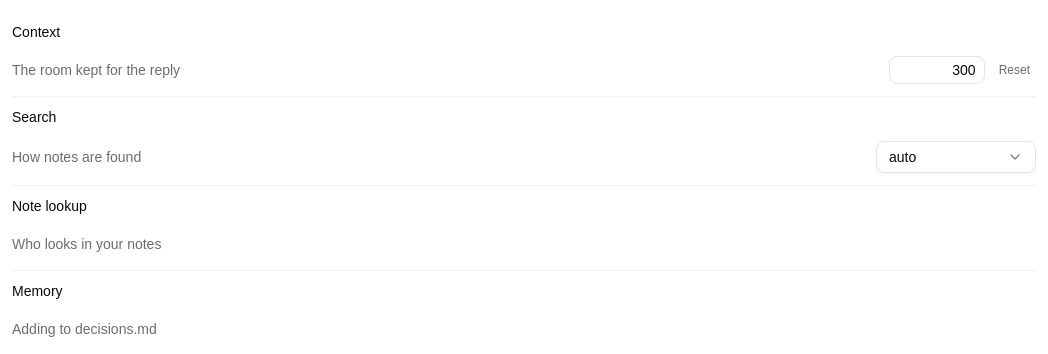
Test case: EngineSettingsSections › offers Reset only while a number is not at its default, and resets with null
The width and height of the screenshot is (1048, 354).
Click the button with aria-label "Reset The room kept for the reply": click(1014, 70) [993,60,1036,80]
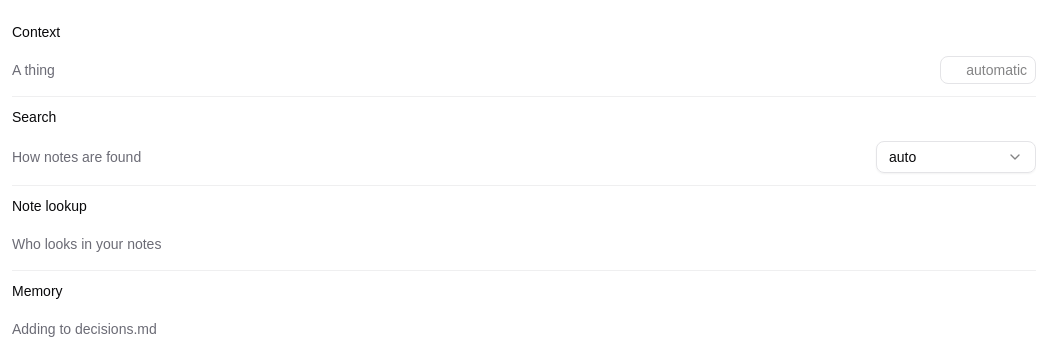
Expected: the button "Reset" is gone
